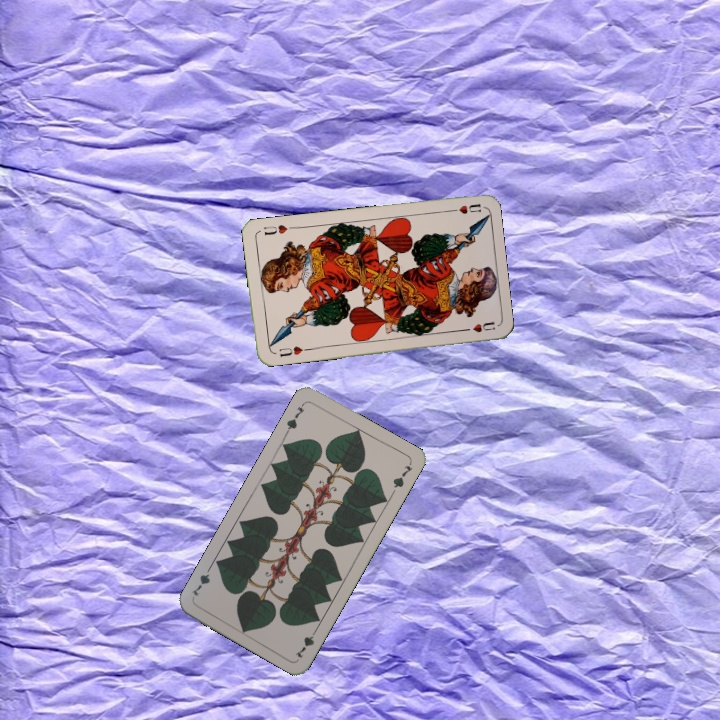G7: (291, 624, 320, 661), (282, 399, 308, 436)
HU: (444, 200, 483, 217), (275, 342, 310, 359)
